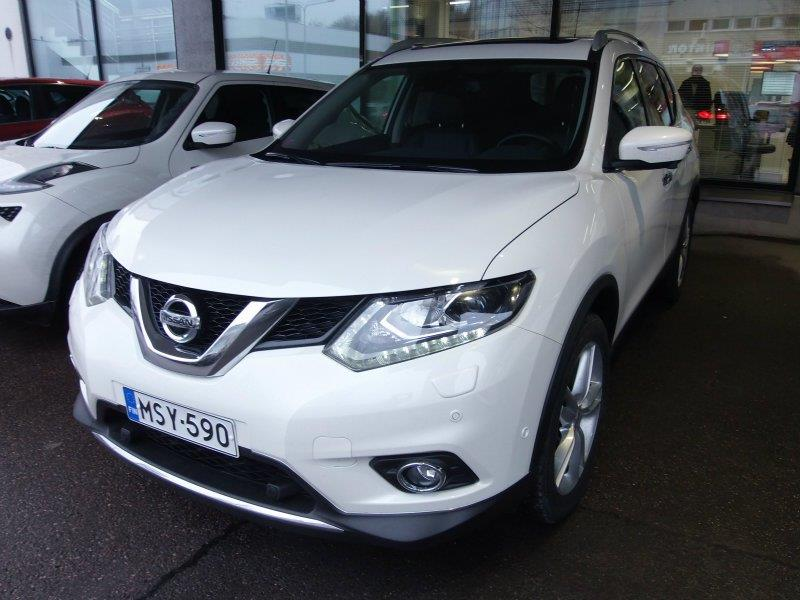license: (125, 390, 237, 460)
